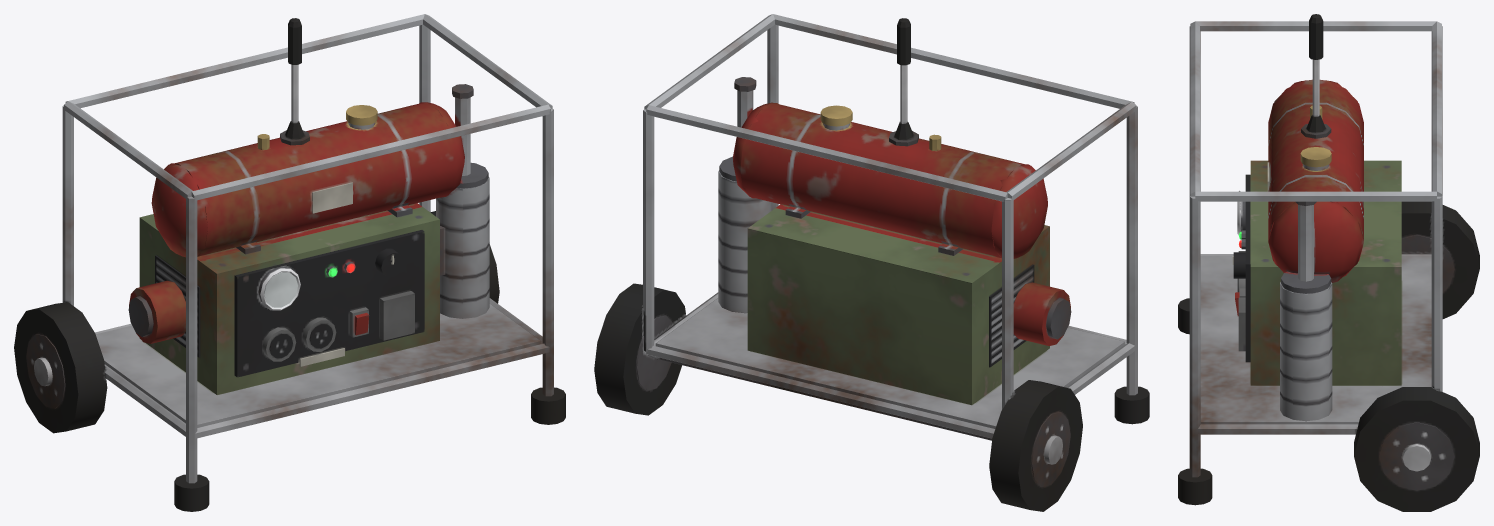
File: Generator_low.fbx
3 renders of one model, left to right at view 1: azimuth 30°, elevation 25°; view 2: azimuth 150°, elevation 25°; view 3: azimuth 270°, elevation 25°, orthographic. The views are drawn at different scales.
Visible parts, largest first — view 1: Generator_low, Generator_Lever_low; view 2: Generator_low, Generator_Lever_low; view 3: Generator_low, Generator_Lever_low.
Boxes of the visible parts, left/top/right/bottom form: Generator_low: left=14, top=14, right=565, bottom=511; Generator_Lever_low: left=280, top=18, right=309, bottom=145; Generator_low: left=594, top=14, right=1149, bottom=511; Generator_Lever_low: left=889, top=18, right=918, bottom=146; Generator_low: left=1178, top=21, right=1479, bottom=511; Generator_Lever_low: left=1301, top=14, right=1331, bottom=138.
Bounding box in the file's own units: 0.968 × 0.859 × 0.599.
1 material, 1 textured.
